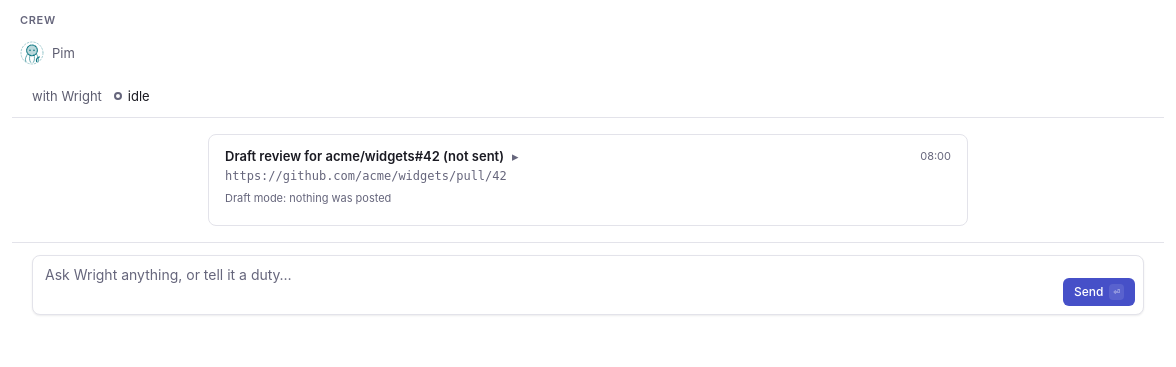
Test: draft card › 'Draft mode: nothing was posted' is visible collapsed and expanded
The image size is (1176, 367).
Expected: the text "Draft review for acme/widgets#42 (not sent)" is shown, [225, 147, 504, 165]
Expected: the text "Draft mode: nothing was posted" is shown, [225, 191, 391, 205]
Click the button "Draft review for acme/widgets#42 (not sent)" at (372, 156), box [225, 147, 519, 165]
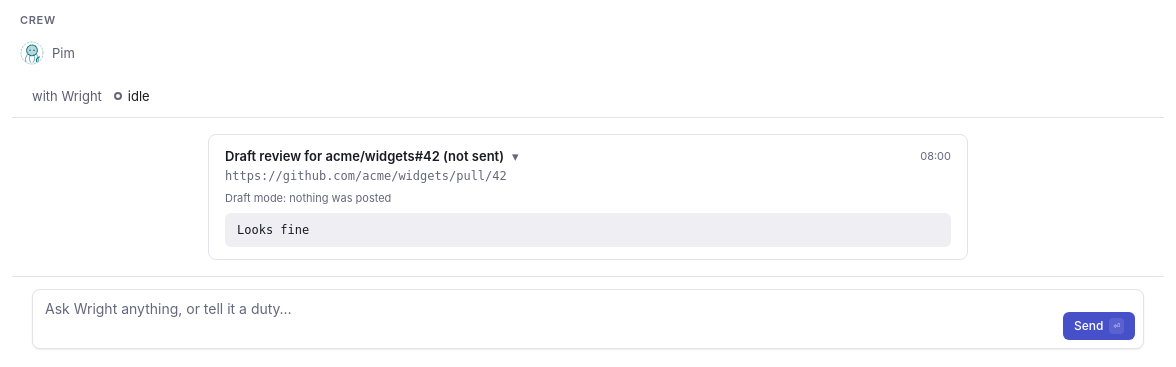
Expected: the text "Draft mode: nothing was posted" is shown, [225, 191, 391, 205]
Now the text "Looks fine" is shown, box [225, 213, 951, 247]
